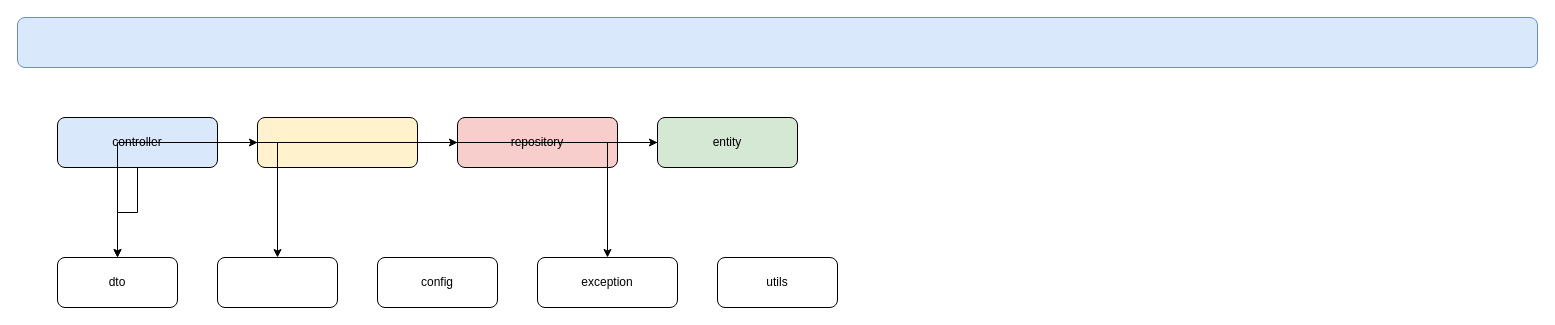
This 1555x325 diagram has some shape labels left out. Each missing label, with the centre of its shape:
enums: pixel 277 282
service + impl: pixel 337 142
包图 — 后端模块 (dev.campushubbackend): pixel 777 42
